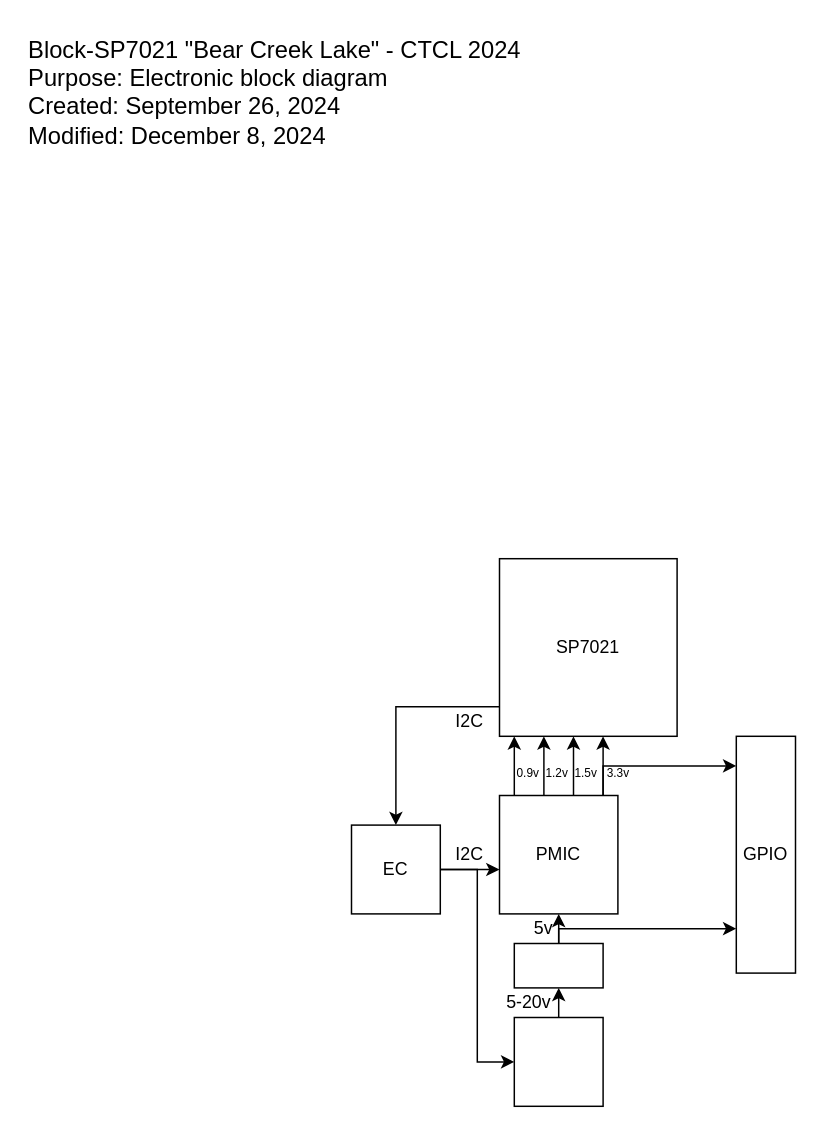
The diagram is 821 pixels wide and 1132 high, and some of its shapes have lost their labels. The shapes that lost their labels are listed below. From the top down, each one's centre as x and y in pixels, then its label:
At (x=558, y=965): "DC-DC Buck".
At (x=558, y=1061): "PD Controller".
